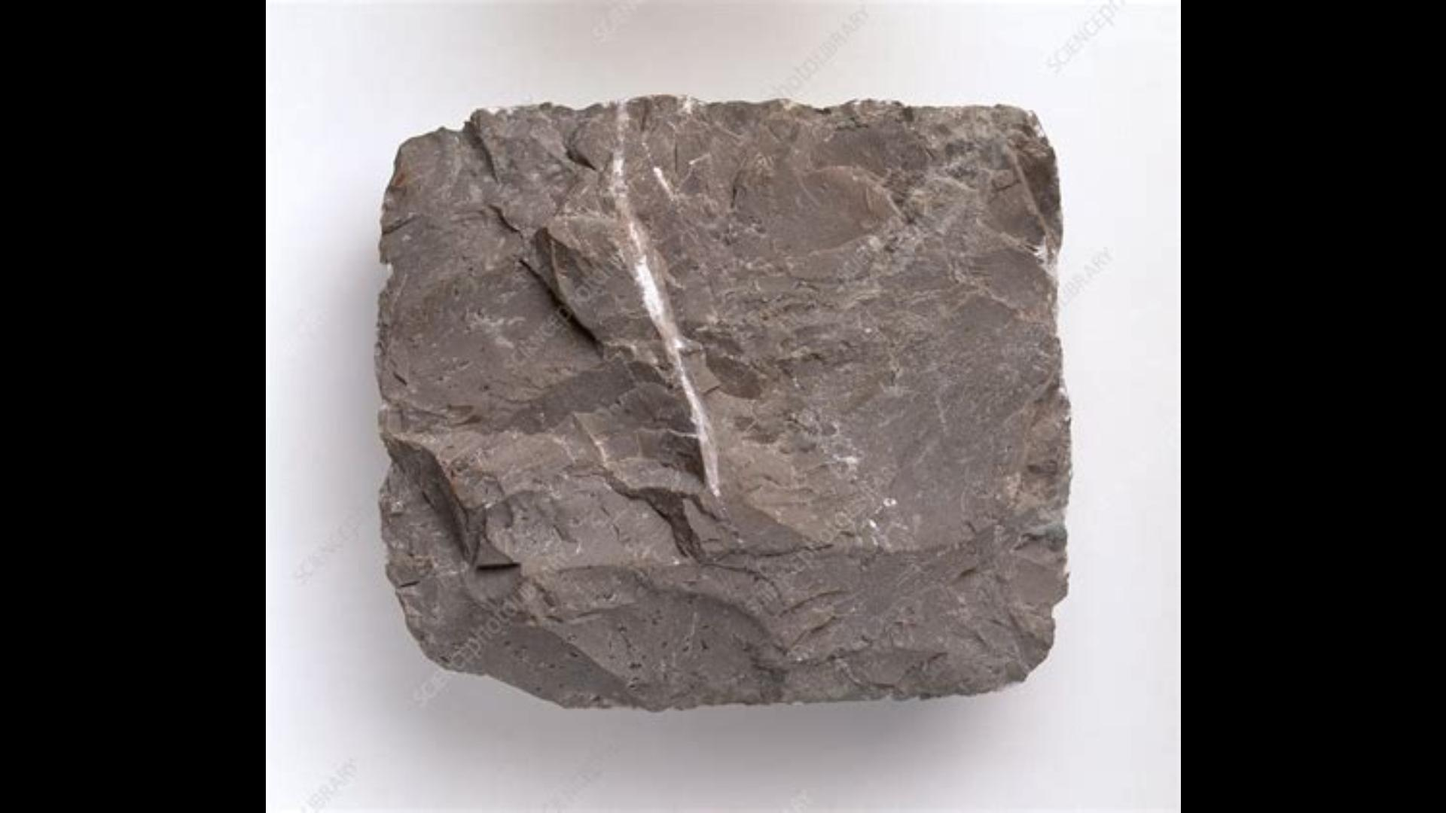rock: (379, 97, 1065, 705)
